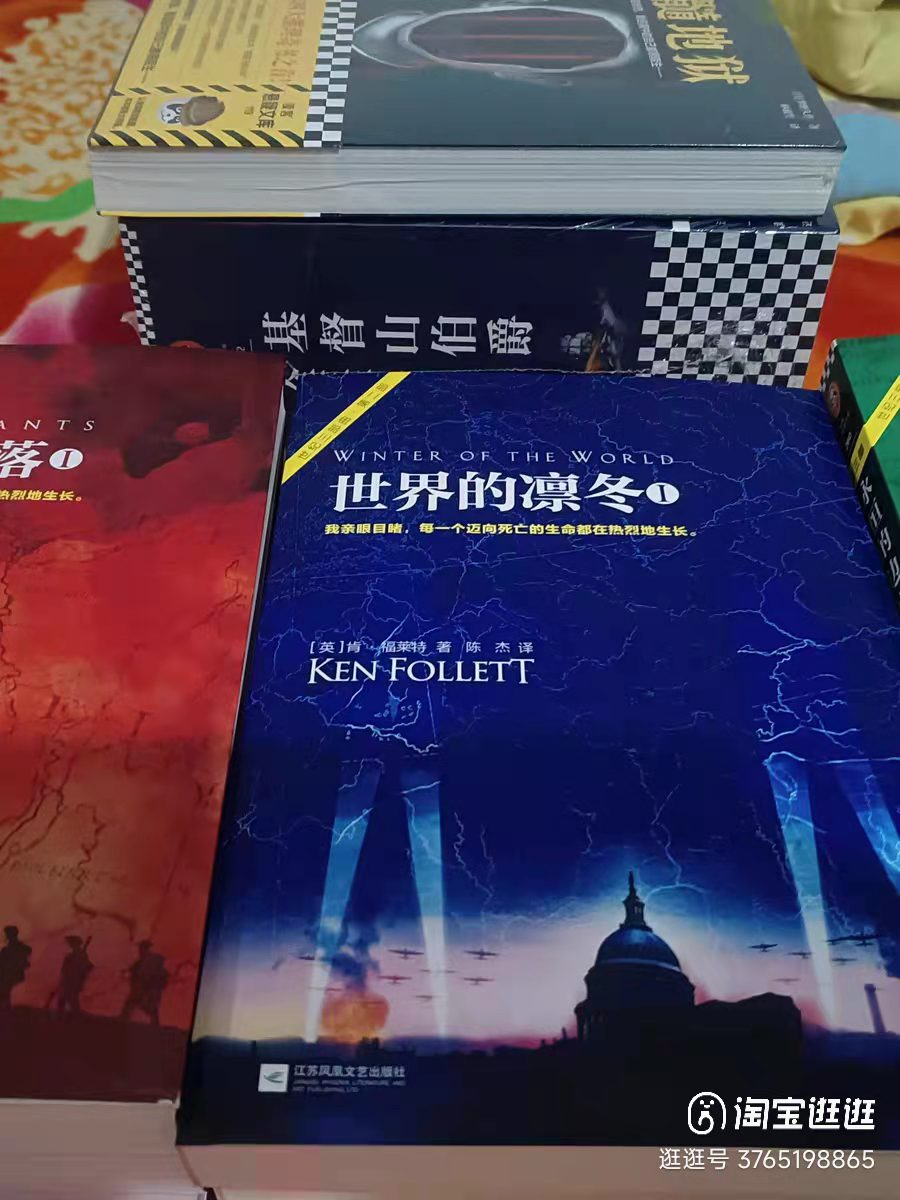book: (169, 371, 900, 1148), (5, 348, 293, 1097), (86, 0, 852, 225), (117, 202, 837, 373)
